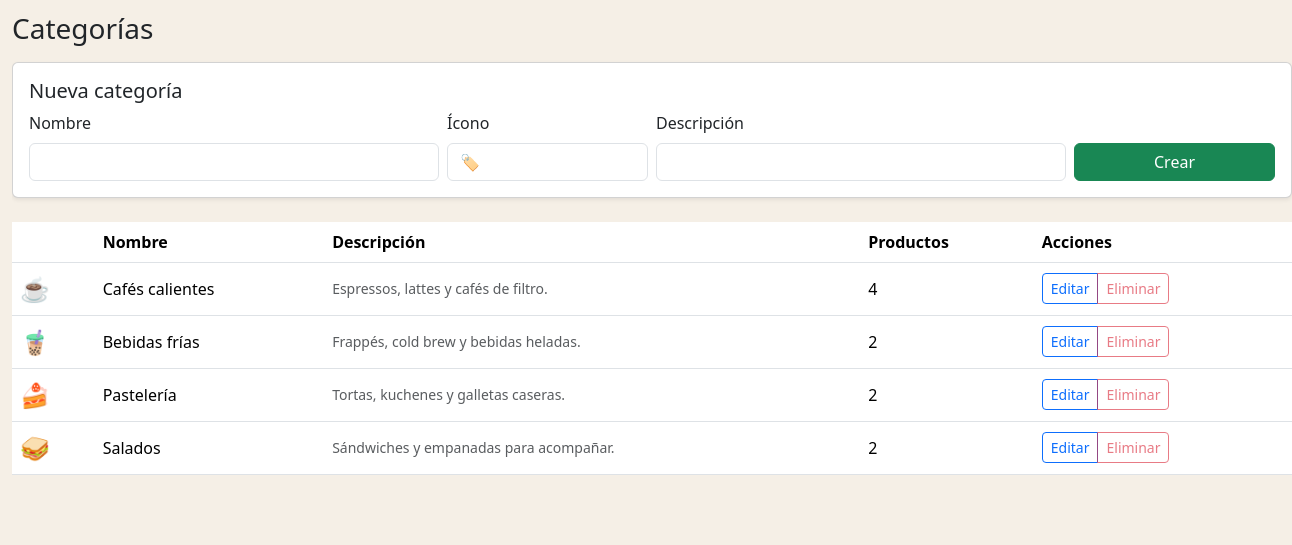
Pruebas del Inspector para AdminCategoriasView › crea una categoría nueva y la muestra en la tabla
Note: El robot busca la caja de texto etiquetada como "Nombre" y escribe "Tés"
Type "Tés" into the field labelled "Nombre".
click(234, 162); type("Tés")  # box [29,143,439,181]
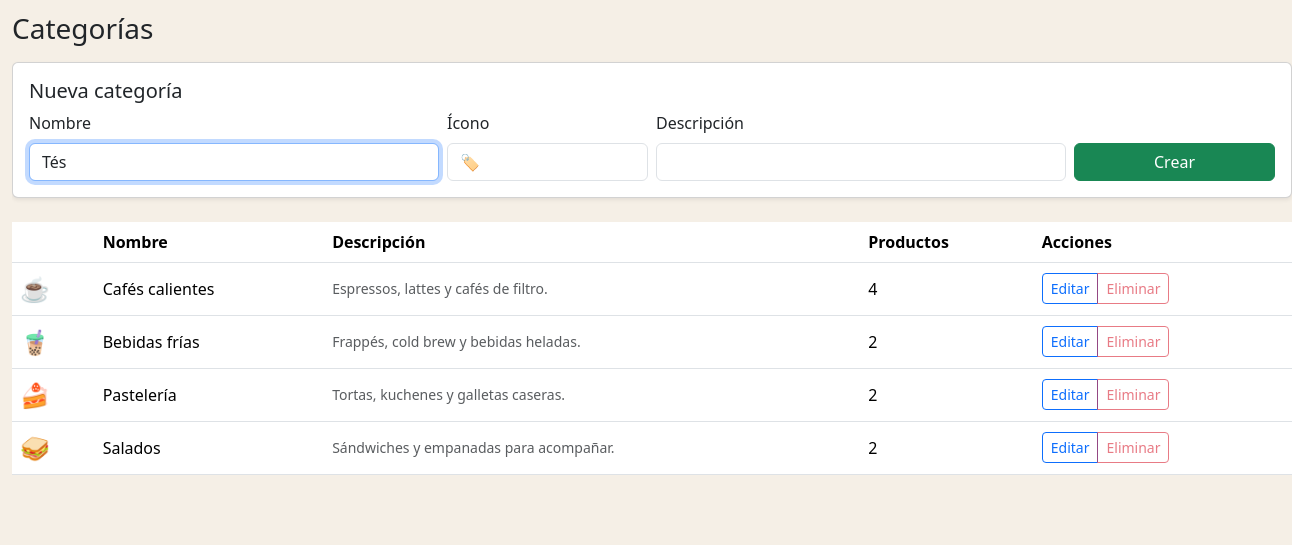
Note: El robot busca el botón que se llama "Crear" y le hace clic
Click the button "Crear".
click(1174, 162)  # box [1074,143,1275,181]
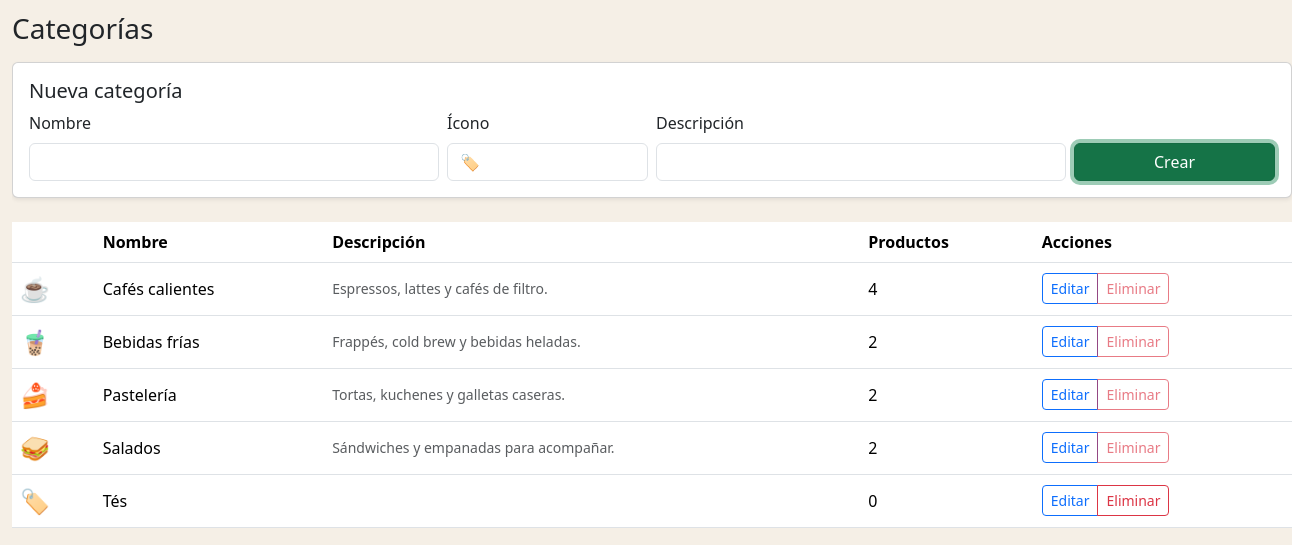
expect the text "Tés" is shown: met, box [95,474,324,527]
